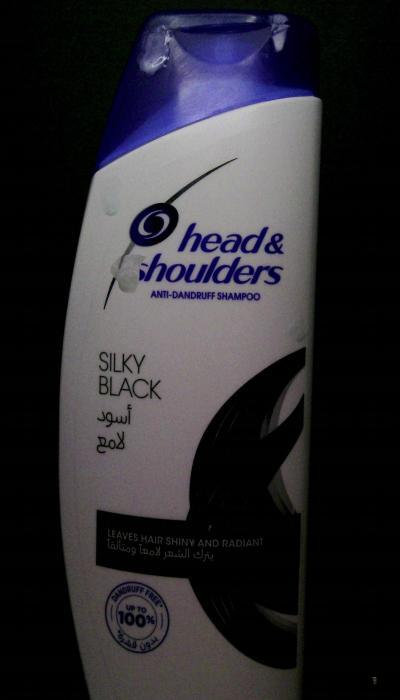pob_unacc: (133, 15, 186, 84), (106, 238, 148, 312), (257, 14, 310, 56)
